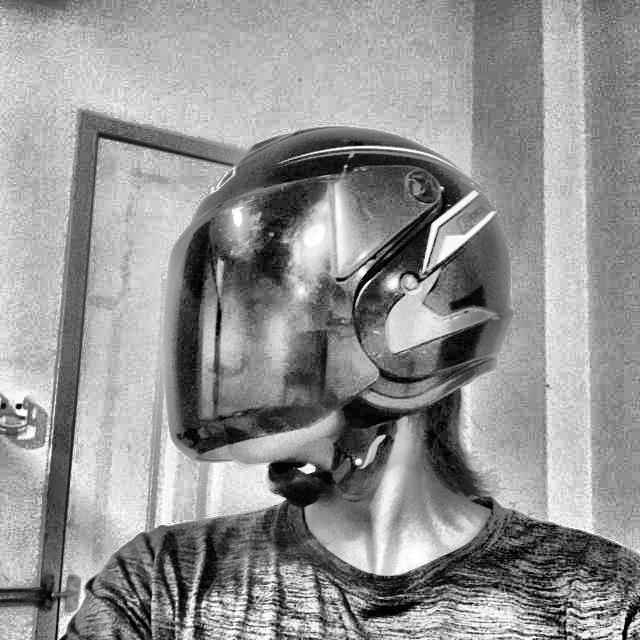Helmet: (152, 112, 520, 514)
